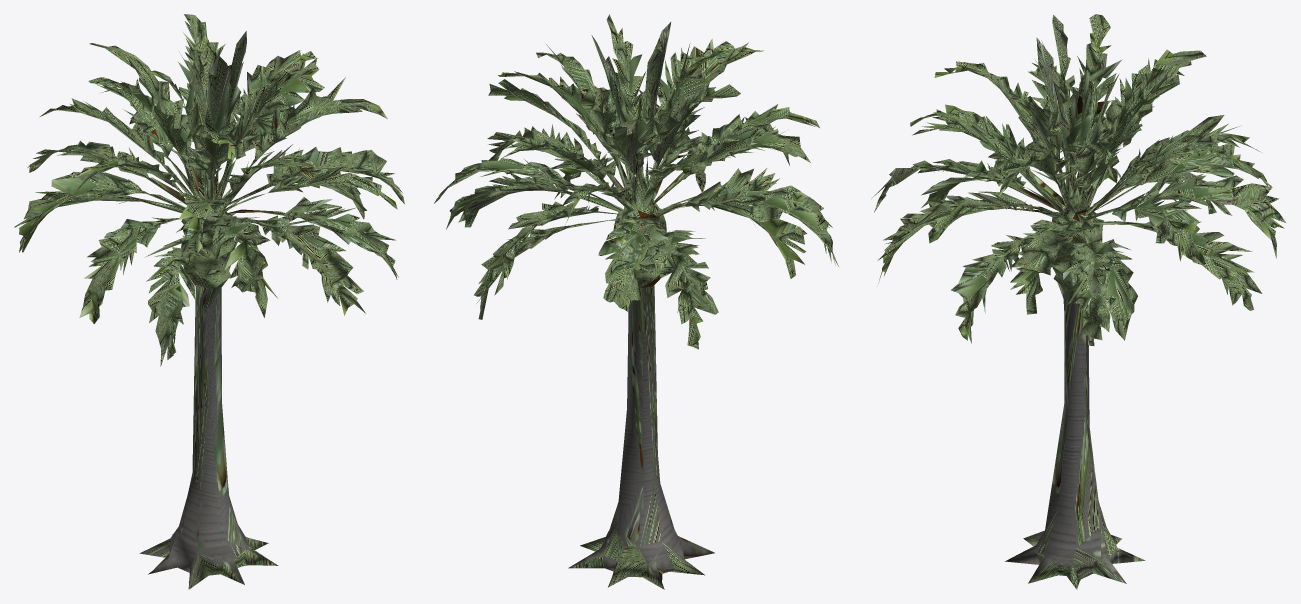
File: palm-fan-lod.glb
The picture shows the model from 3 angles, left to right: view 1: azimuth 30°, elevation 25°; view 2: azimuth 150°, elevation 25°; view 3: azimuth 270°, elevation 25°; orthographic projection.
Visible parts, largest first — view 1: world; view 2: world; view 3: world.
Boxes of the visible parts, x1,y1,x2,y2 form: world: (14, 14, 404, 589); world: (434, 14, 838, 589); world: (871, 14, 1286, 589).
Size of the model in its own units: 0.6861 by 0.9748 by 0.7103.
Materials: 1 (1 with a texture image).
